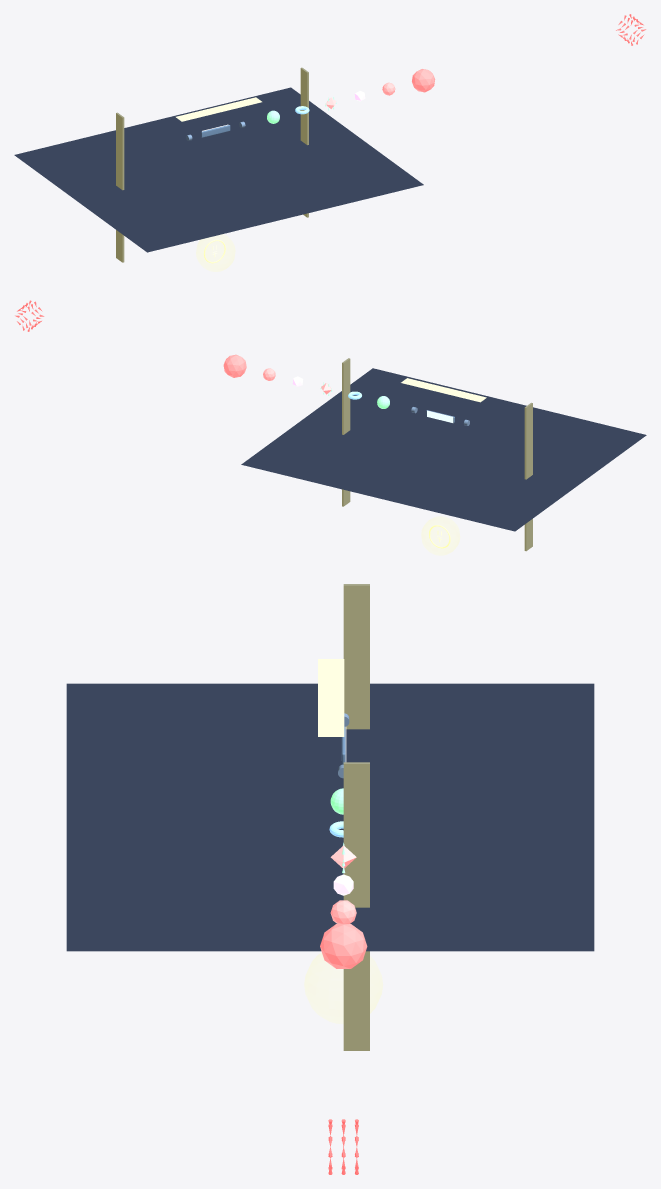
3 views of the same model, one above another, from view 1: azimuth 30°, elevation 25°; view 2: azimuth 150°, elevation 25°; view 3: azimuth 270°, elevation 25° (orthographic). The views are drawn at different scales.
Visible parts, largest first — view 1: Arena, YenGlow, Wall_-1, Wall_1, DefenseLine, Boss; view 2: Arena, YenGlow, Wall_-1, Wall_1, DefenseLine, Boss; view 3: Arena, Wall_1, Wall_-1, YenGlow, DefenseLine, Boss.
Boxes of the visible parts, x1=… form: Arena: x1=14, y1=87, x2=423, y2=252; YenGlow: x1=196, y1=234, x2=234, y2=271; Wall_-1: x1=116, y1=112, x2=124, y2=262; Wall_1: x1=300, y1=67, x2=308, y2=217; DefenseLine: x1=176, y1=97, x2=261, y2=121; Boss: x1=412, y1=69, x2=435, y2=92; Arena: x1=241, y1=368, x2=646, y2=531; YenGlow: x1=421, y1=517, x2=459, y2=554; Wall_-1: x1=524, y1=402, x2=532, y2=551; Wall_1: x1=342, y1=358, x2=350, y2=506; DefenseLine: x1=401, y1=378, x2=486, y2=402; Boss: x1=223, y1=354, x2=246, y2=377; Arena: x1=66, y1=683, x2=594, y2=951; Wall_1: x1=343, y1=762, x2=369, y2=1050; Wall_-1: x1=343, y1=584, x2=369, y2=729; YenGlow: x1=305, y1=953, x2=382, y2=1023; DefenseLine: x1=318, y1=659, x2=344, y2=736; Boss: x1=320, y1=924, x2=367, y2=968.
Size of the model in its own units: 49.07 by 14.5 by 20.
